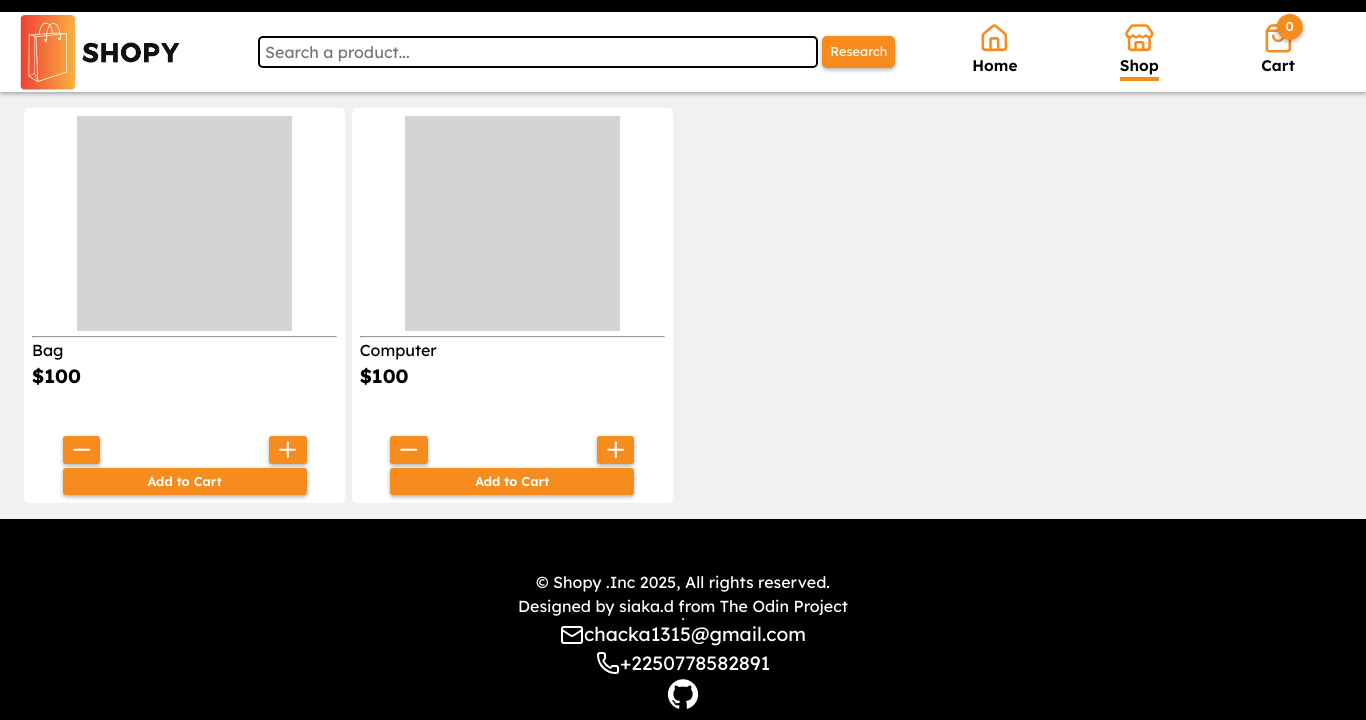
Test: ShopPage cards › buttons increase and decrease the input value
This screenshot has width=1366, height=720.
Click the button named "increment" below "Bag" at (288, 450), box [269,436,307,464]
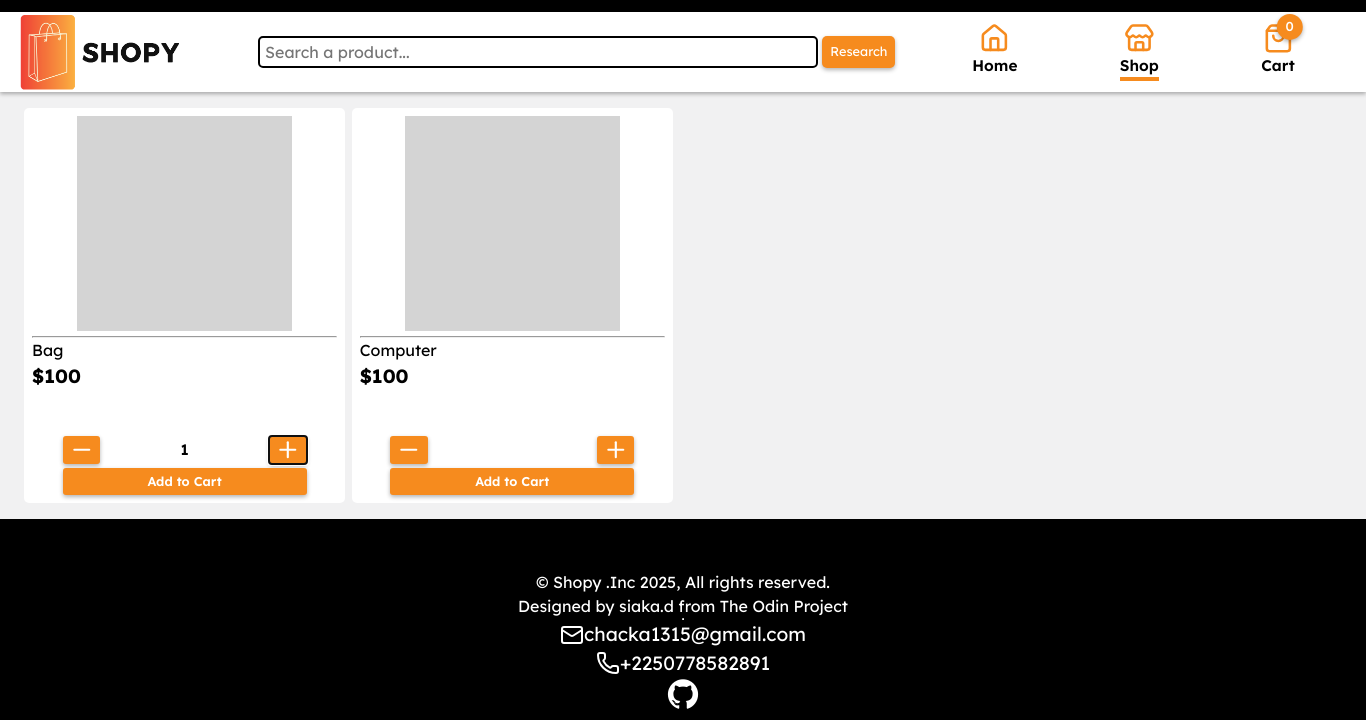
Click the button named "increment" below "Bag" at (288, 450), box [269,436,307,464]
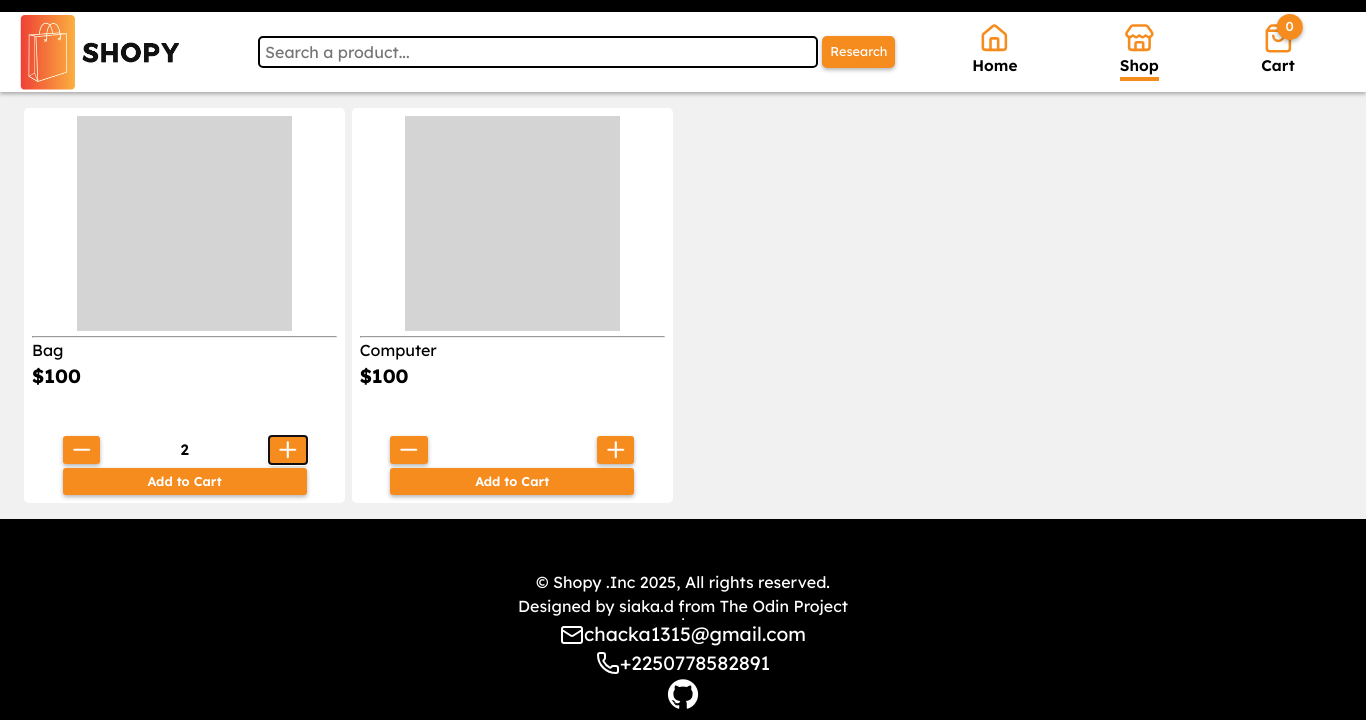
Click the button named "increment" below "Bag" at (288, 450), box [269,436,307,464]
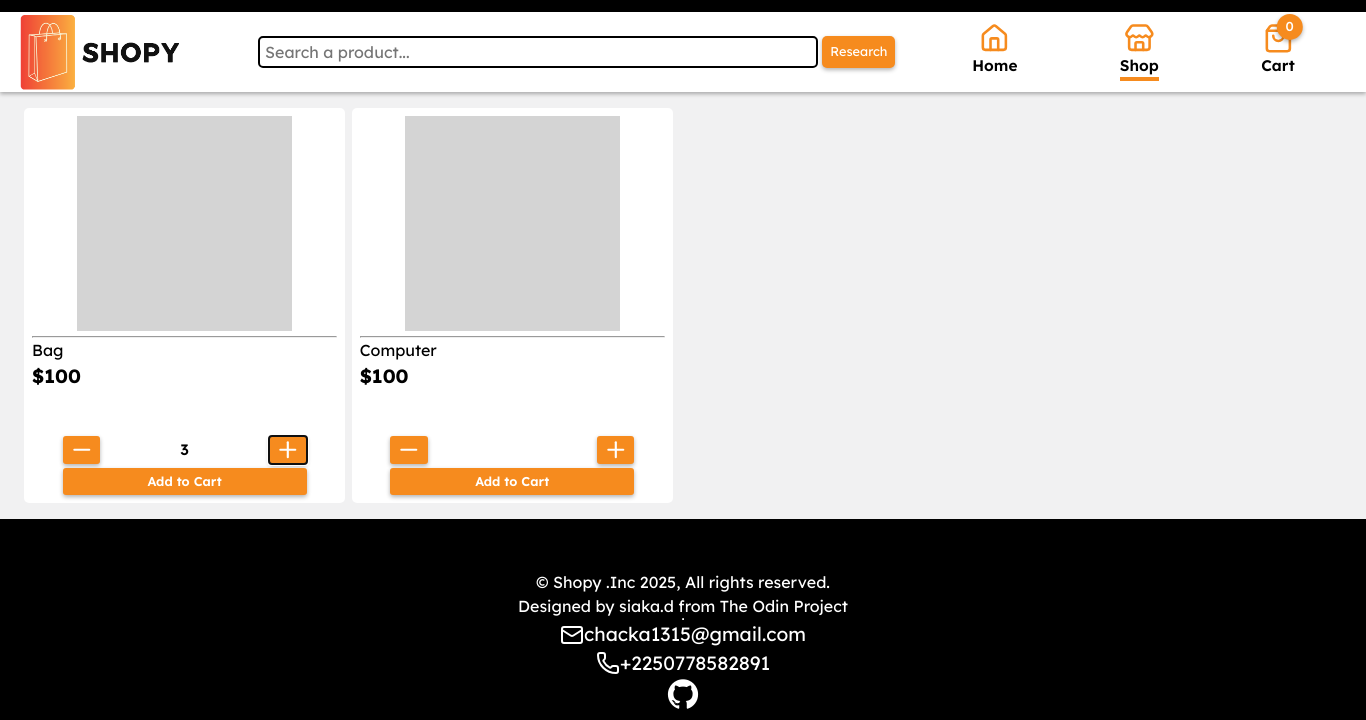
Result: the field below "Bag" holds "3" at [169,438,201,462]
Click the button named "decrement" below "Bag" at (81, 450), box [62,436,100,464]
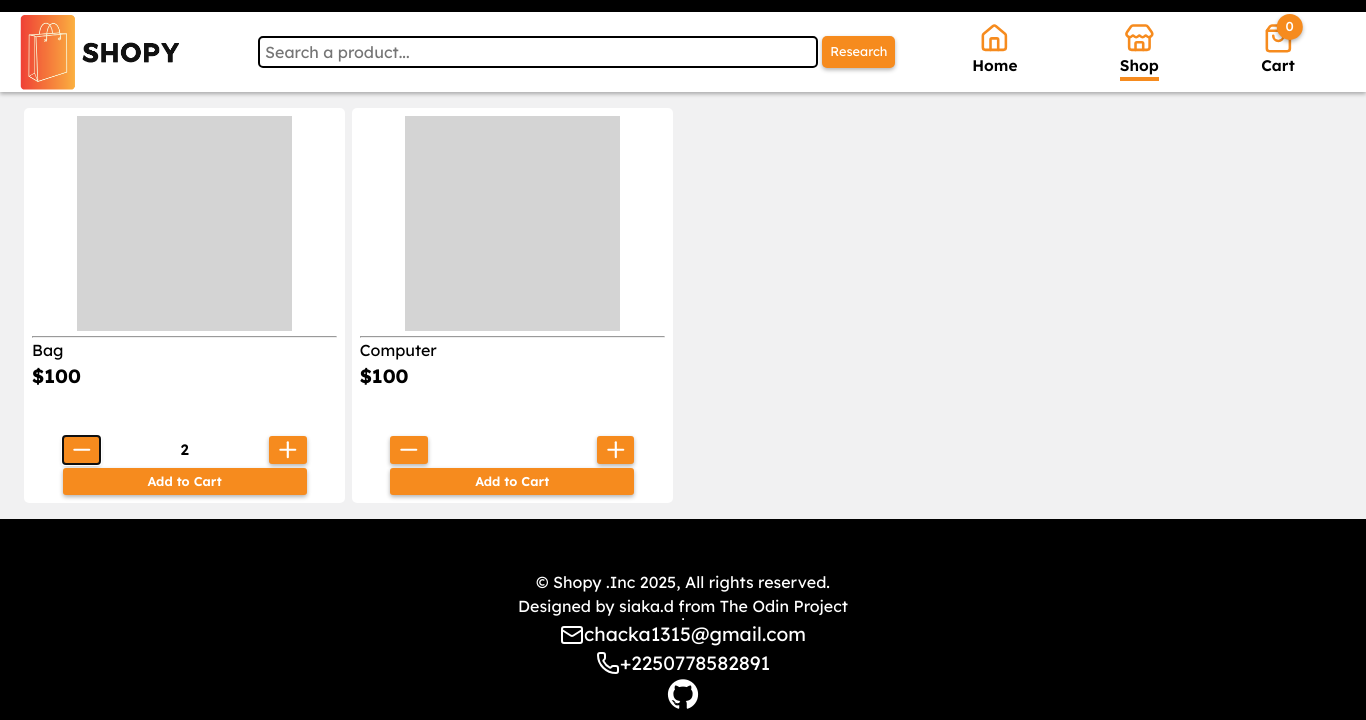
Click the button named "decrement" below "Bag" at (81, 450), box [62,436,100,464]
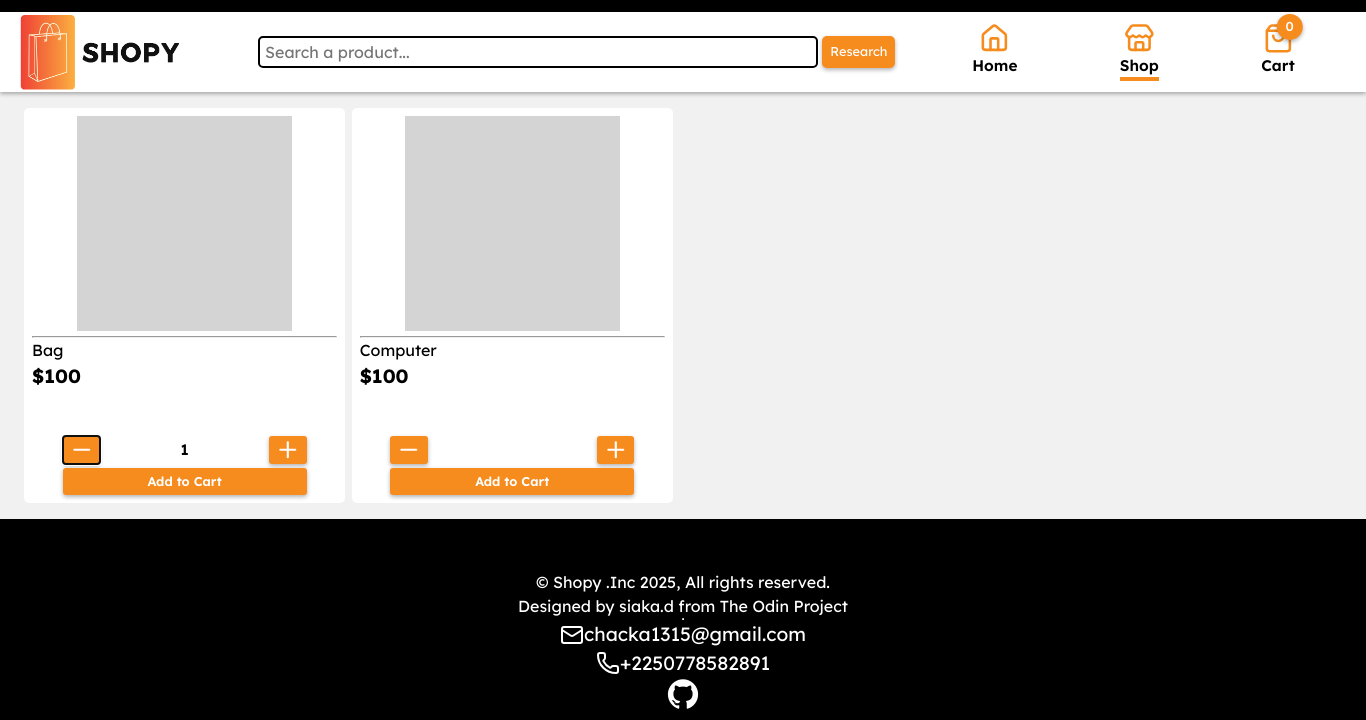
Result: the field below "Bag" holds "1" at [169,438,201,462]
